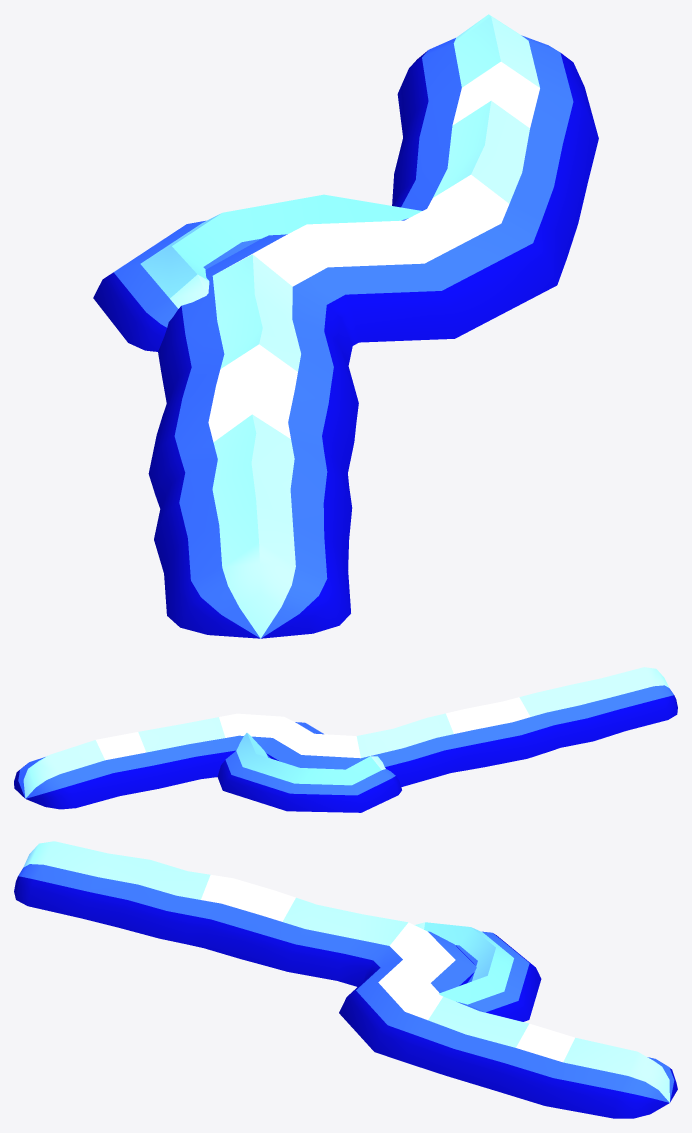
The model's file is shot_lightning_197.glb.
3 views of the same model, one above another, from view 1: azimuth 30°, elevation 25°; view 2: azimuth 150°, elevation 25°; view 3: azimuth 270°, elevation 25° (orthographic). The views are drawn at different scales.
Visible parts, largest first — view 1: shot_lightning_197_0, shot_lightning_197_1; view 2: shot_lightning_197_0, shot_lightning_197_1; view 3: shot_lightning_197_0, shot_lightning_197_1.
Boxes of the visible parts, x1,y1,x2,y2 form: shot_lightning_197_0: (148, 14, 598, 638); shot_lightning_197_1: (93, 194, 421, 351); shot_lightning_197_0: (14, 667, 677, 809); shot_lightning_197_1: (217, 733, 401, 812); shot_lightning_197_0: (14, 841, 677, 1118); shot_lightning_197_1: (414, 922, 541, 1021).
Size of the model in its own units: 14.48 by 1.26 by 15.93.
